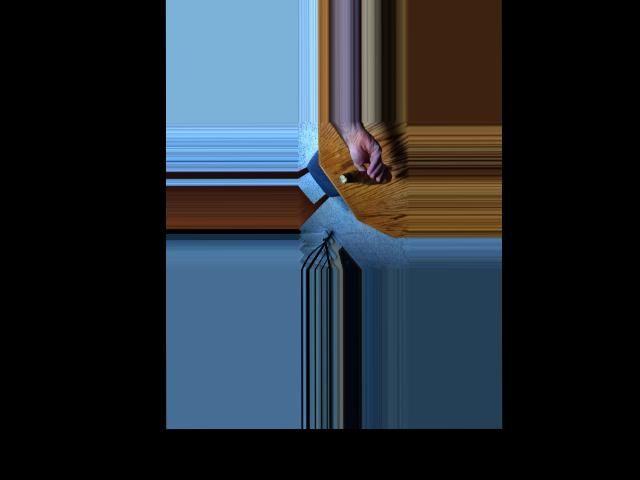sweet_potato: (343, 167, 388, 189)
